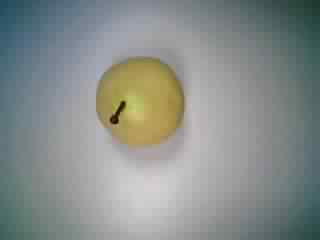pear: (77, 51, 193, 154)
